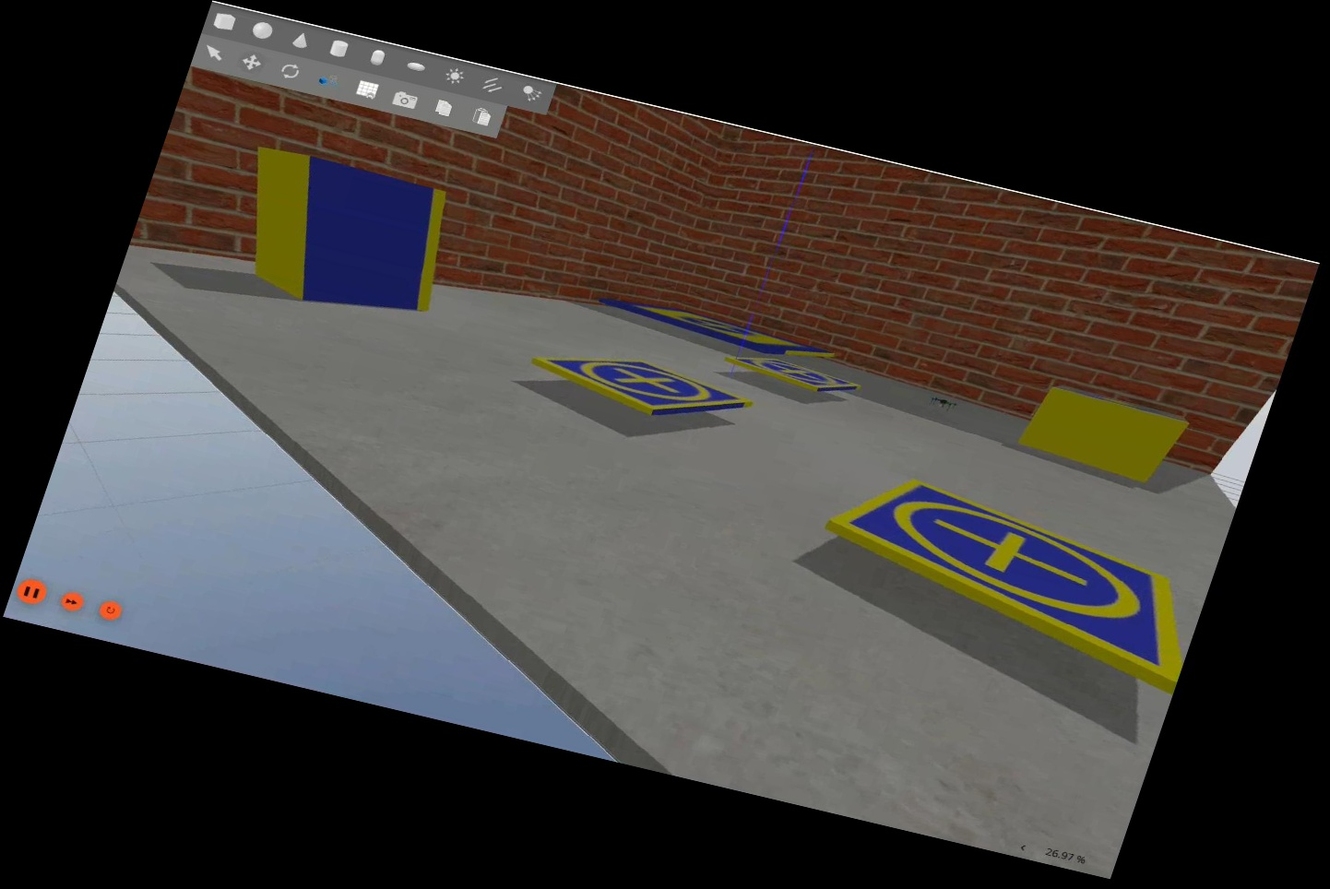large_base: (594, 288, 839, 370)
small_base: (798, 462, 1224, 696), (525, 334, 755, 435), (727, 348, 864, 405)
